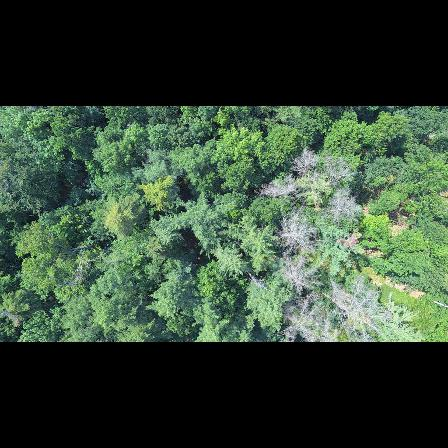Dead: (326, 282, 400, 339), (278, 298, 320, 340), (279, 252, 320, 292), (273, 210, 317, 245), (322, 189, 362, 221), (253, 180, 299, 202), (284, 149, 320, 173)
